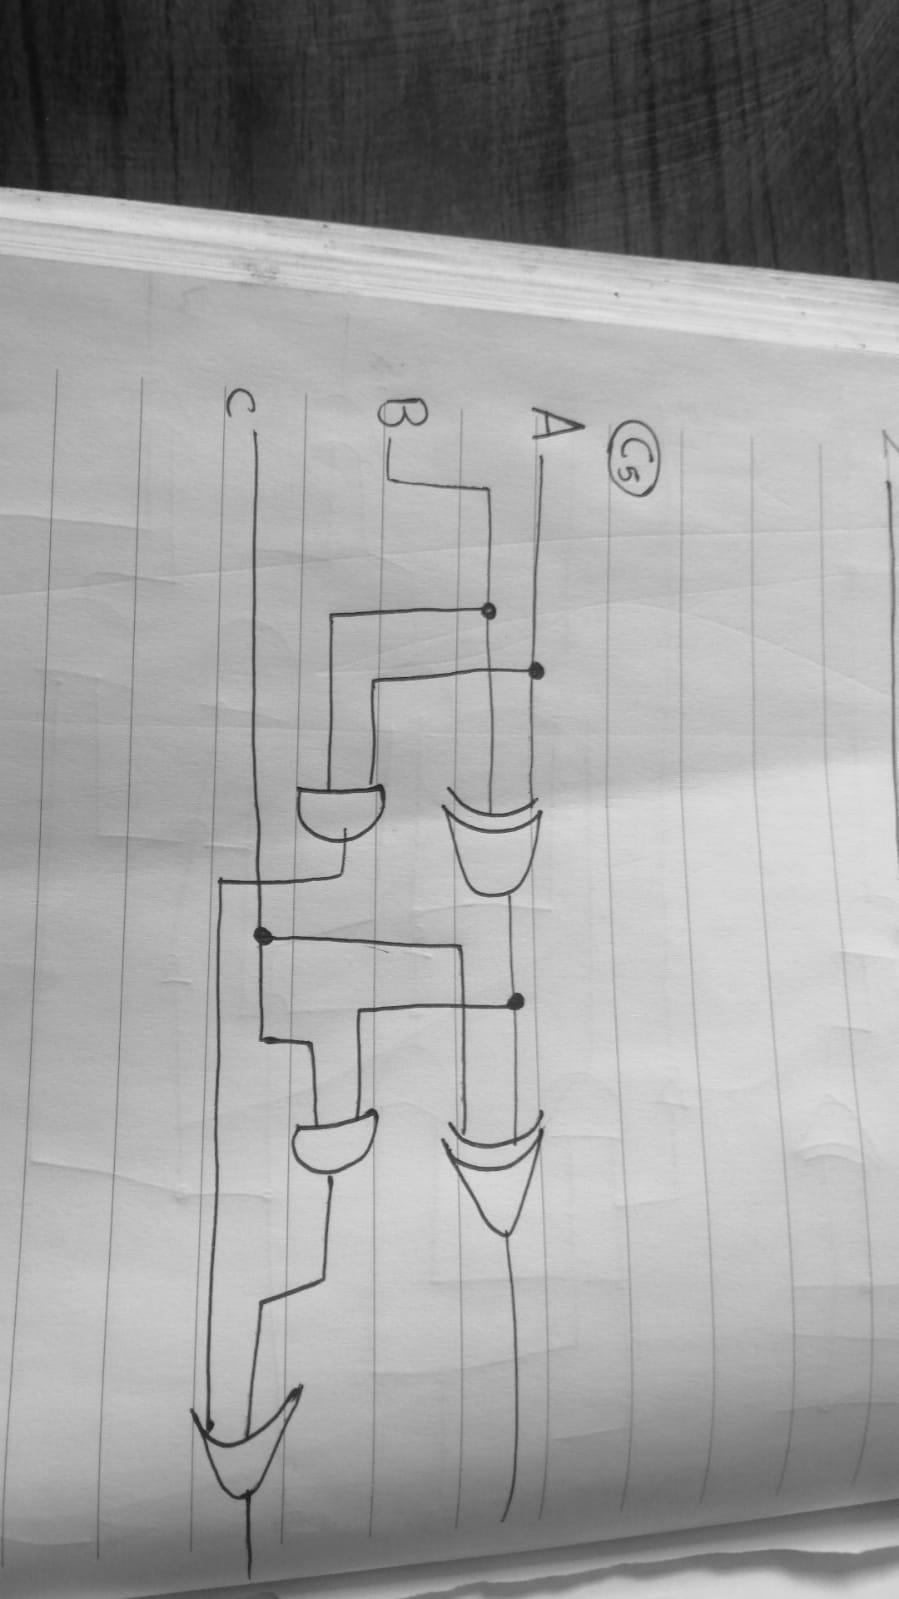AND: (263, 1110, 417, 1192), (283, 767, 401, 862)
OR: (160, 1377, 339, 1516)
XOR: (427, 750, 587, 923), (437, 1107, 584, 1270)
